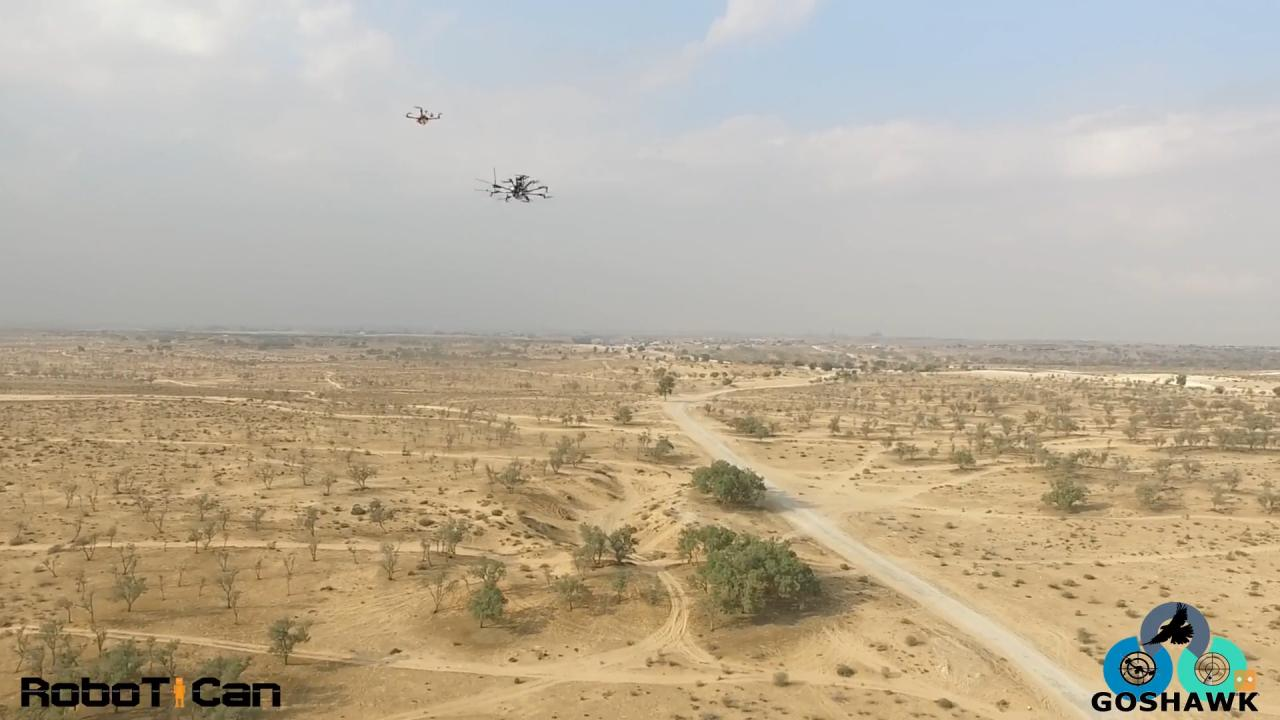Drone: (462, 159, 568, 215), (393, 95, 452, 134)
